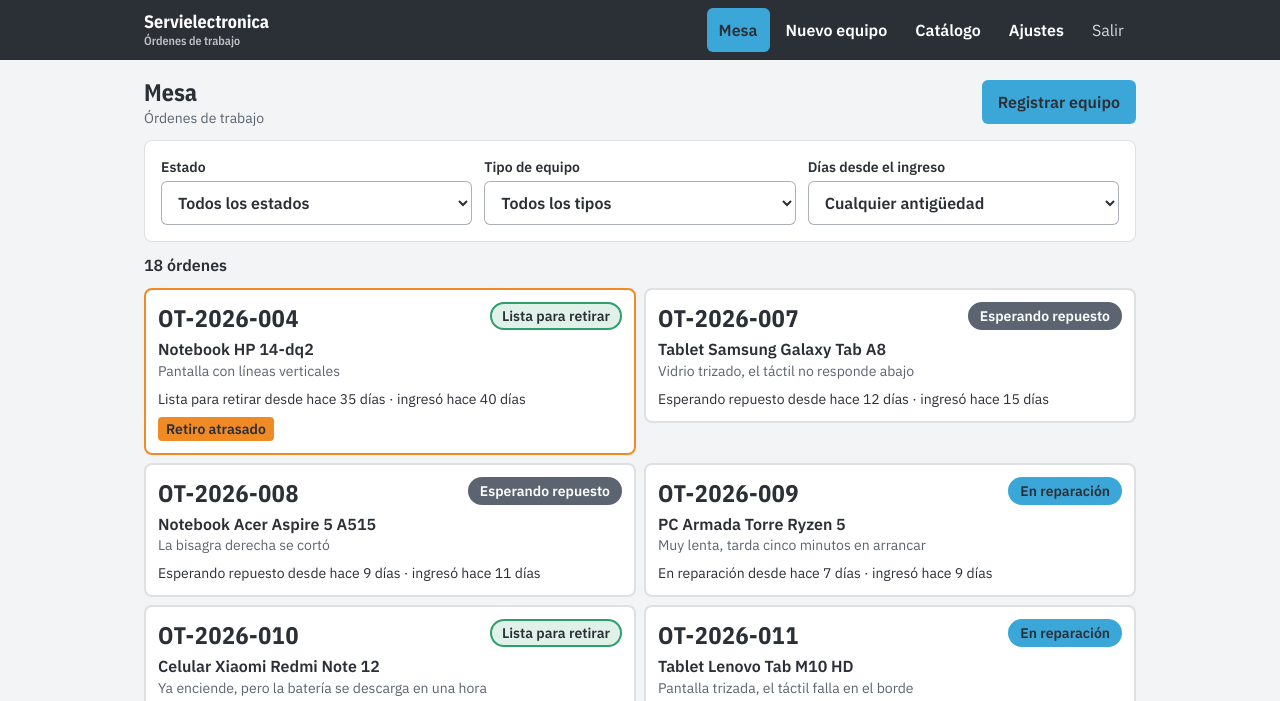
Test: criterio 7: filtros y contador › los filtros se combinan y el contador coincide con la lista
Expected: the text with test id "contador" reads "18 órdenes", [144,255,227,275]
Select "Notebook" in the dropdown labelled "Tipo de equipo" at (640, 203), box [484,181,796,225]
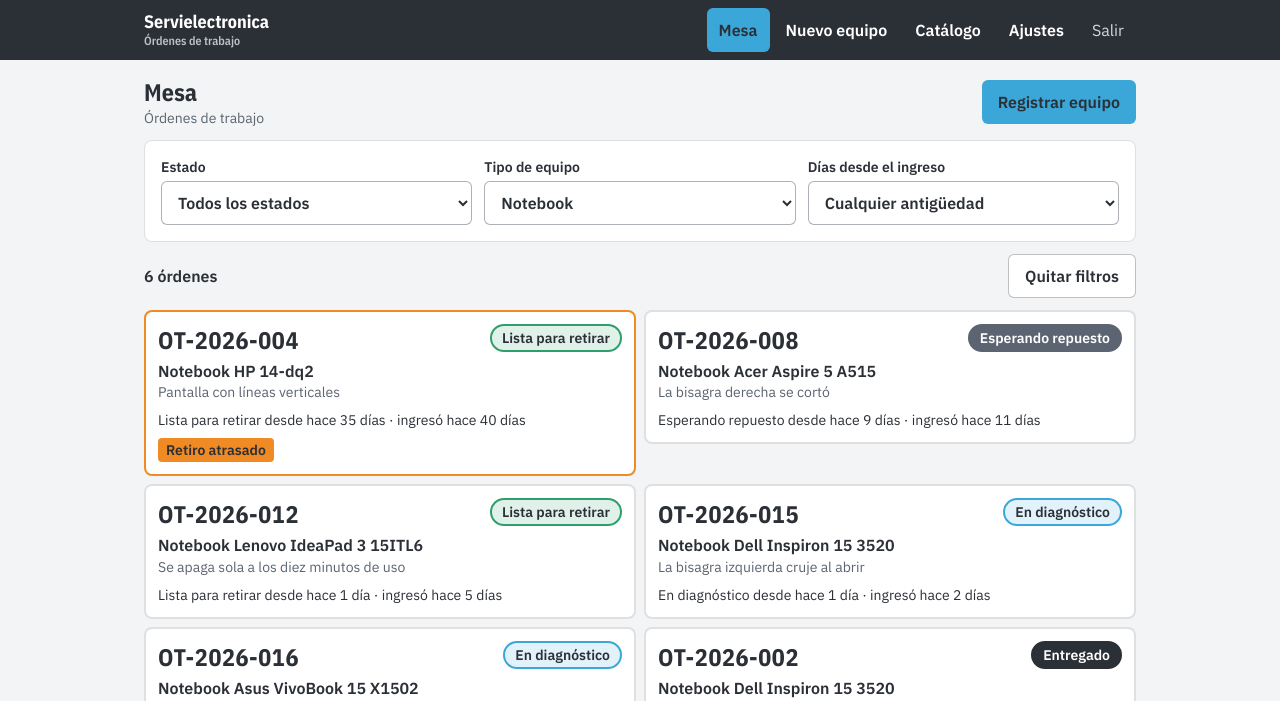
Select "Más de 30 días" in the dropdown labelled "Días desde el ingreso" at (963, 203), box [808,181,1119,225]
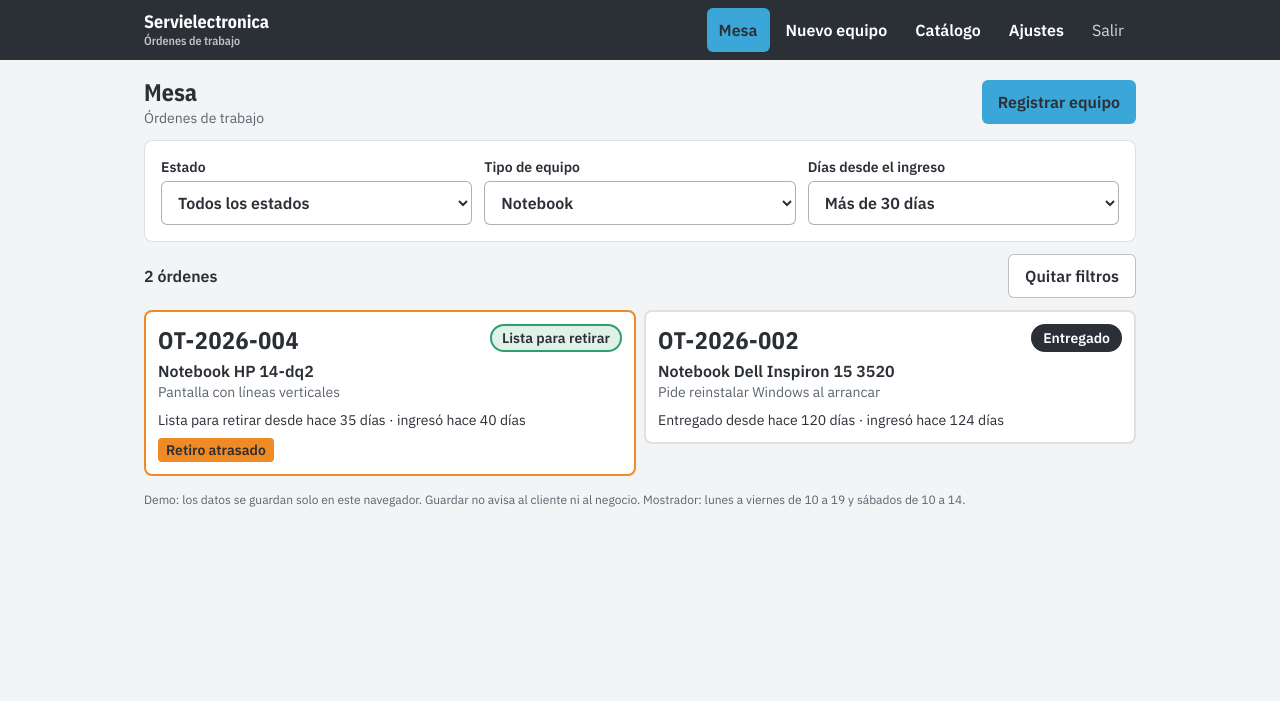
Expected: the text with test id "contador" reads "2 órdenes", [144,266,218,286]
Select "Lista para retirar" in the dropdown labelled "Estado" at (317, 203), box [161,181,472,225]
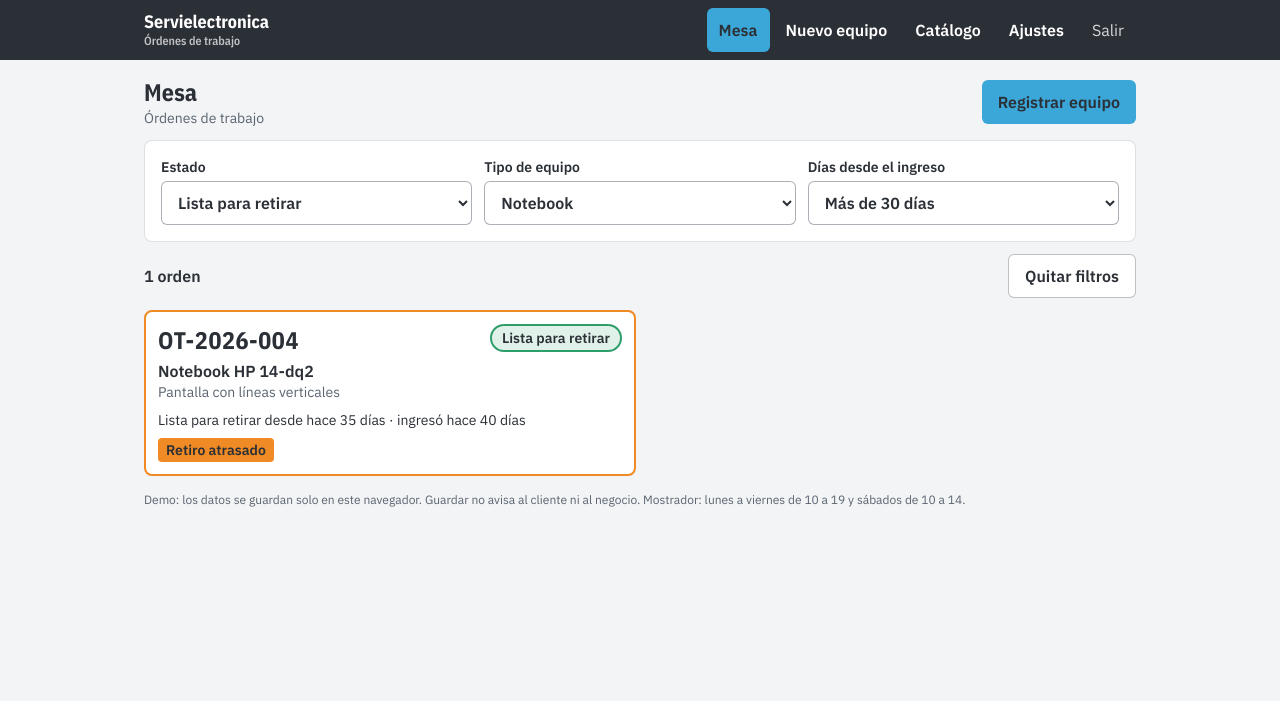
Expected: the text with test id "contador" reads "1 orden", [144,266,200,286]
